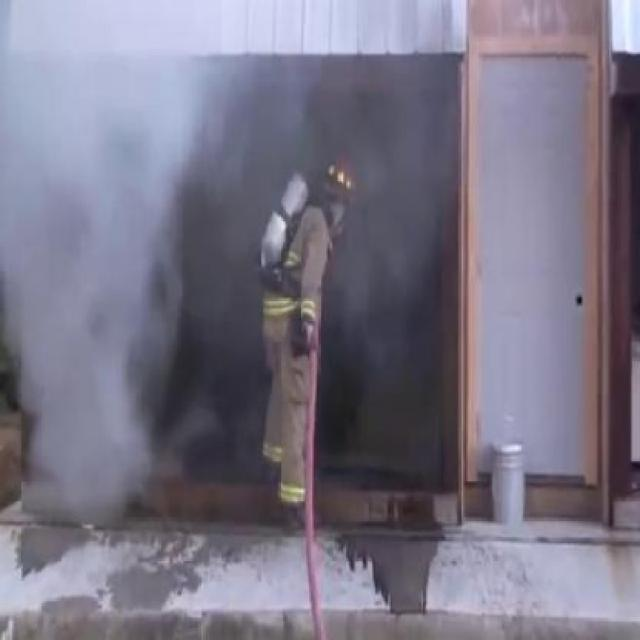smoke: (8, 16, 192, 490)
